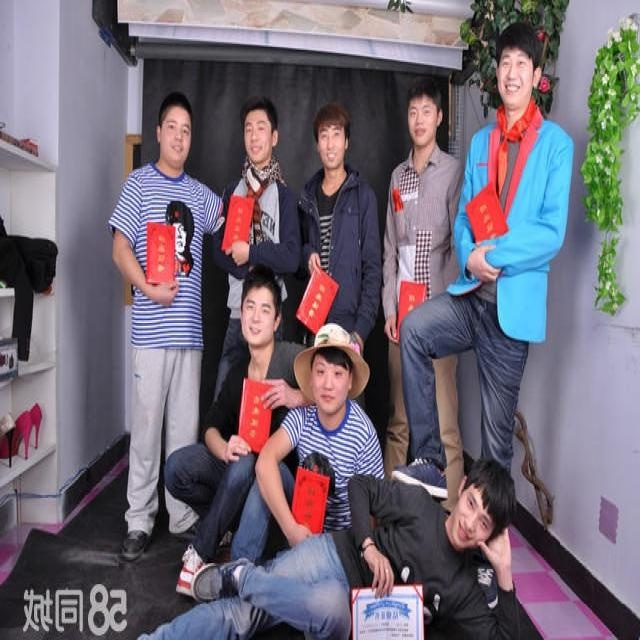Sin_Casco_Mascarrilla: (493, 21, 543, 97), (157, 98, 192, 167), (401, 87, 443, 144), (239, 105, 279, 164), (314, 107, 350, 165)
Sin_Chaleco: (115, 176, 210, 340)
